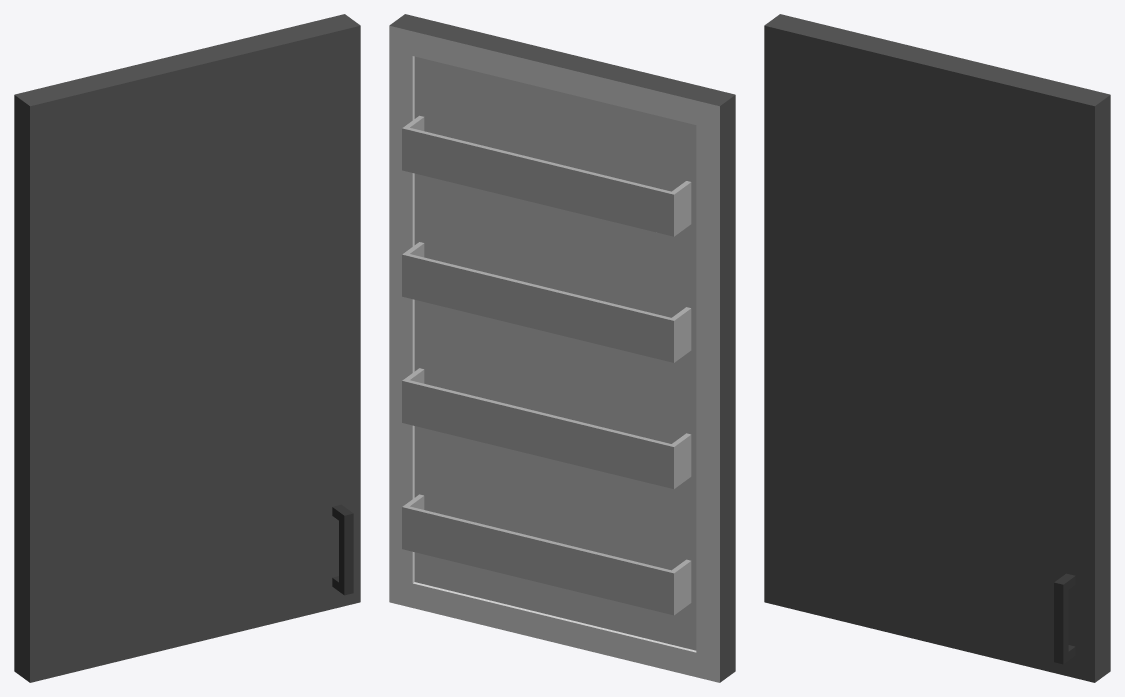
The model's file is Refrigerator2_C2_02.fbx.
3 views of the same model, side by side, from view 1: azimuth 30°, elevation 25°; view 2: azimuth 150°, elevation 25°; view 3: azimuth 330°, elevation 25° (orthographic).
Visible parts, largest first — view 1: Refrigerator2_C2_02; view 2: Refrigerator2_C2_02; view 3: Refrigerator2_C2_02.
Boxes of the visible parts, bbox=[...] form: Refrigerator2_C2_02: bbox=[14, 14, 360, 682]; Refrigerator2_C2_02: bbox=[389, 14, 735, 682]; Refrigerator2_C2_02: bbox=[764, 14, 1110, 682].
Bounding box in the file's own units: 60 × 100 × 13.67.
